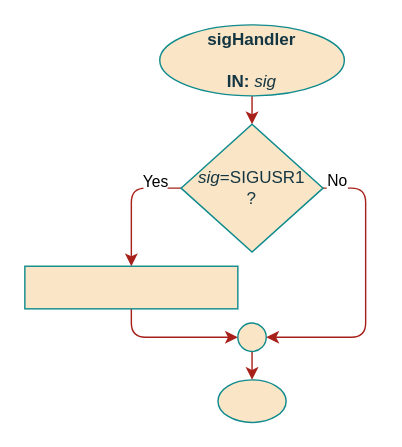
Image size: 402x447. Some labels were removed from this diagram. The box of each missing label's shape, as (x1, y1, x2, y2) in pixels:
end: (217, 378, 286, 422)
Signal condRecvSensors: (23, 265, 238, 309)
